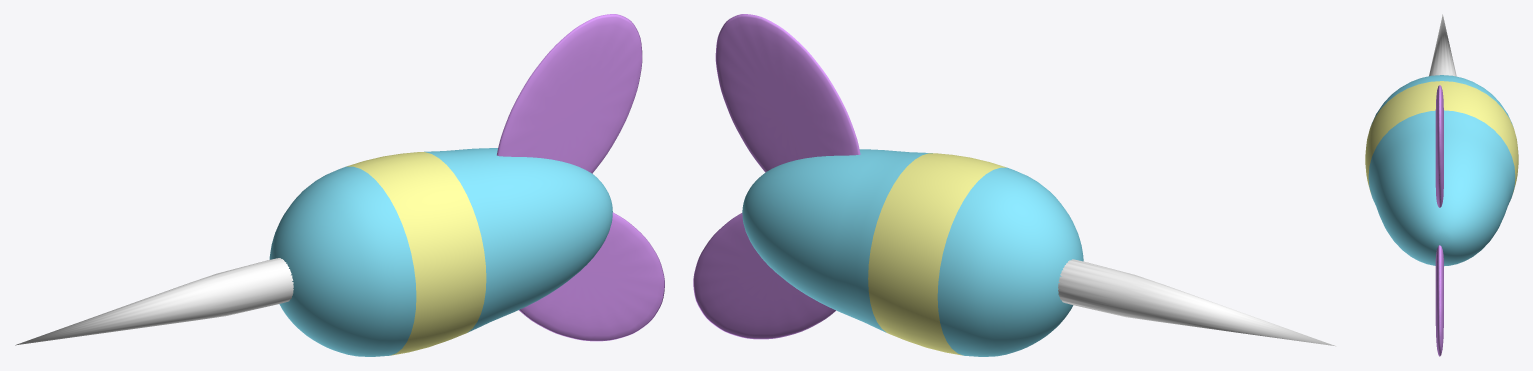
File: Darts_Final.fbx
3 views of the same model, side by side, from view 1: azimuth 30°, elevation 25°; view 2: azimuth 150°, elevation 25°; view 3: azimuth 270°, elevation 25° (orthographic). The views are drawn at different scales.
Parts seen in each view (by area): view 1: Dart_body, dart_wings, Dart_point; view 2: Dart_body, dart_wings, Dart_point; view 3: Dart_body, dart_wings, Dart_point.
Part boxes in pixels (x1=…): Dart_body: x1=269, y1=148, x2=612, y2=356; dart_wings: x1=497, y1=14, x2=664, y2=341; Dart_point: x1=15, y1=258, x2=293, y2=345; Dart_body: x1=742, y1=149, x2=1083, y2=356; dart_wings: x1=693, y1=14, x2=860, y2=339; Dart_point: x1=1058, y1=259, x2=1335, y2=346; Dart_body: x1=1365, y1=75, x2=1518, y2=266; dart_wings: x1=1435, y1=85, x2=1443, y2=356; Dart_point: x1=1429, y1=14, x2=1456, y2=76.
Size of the model in its own units: 36.12 by 17.42 by 9.48.
